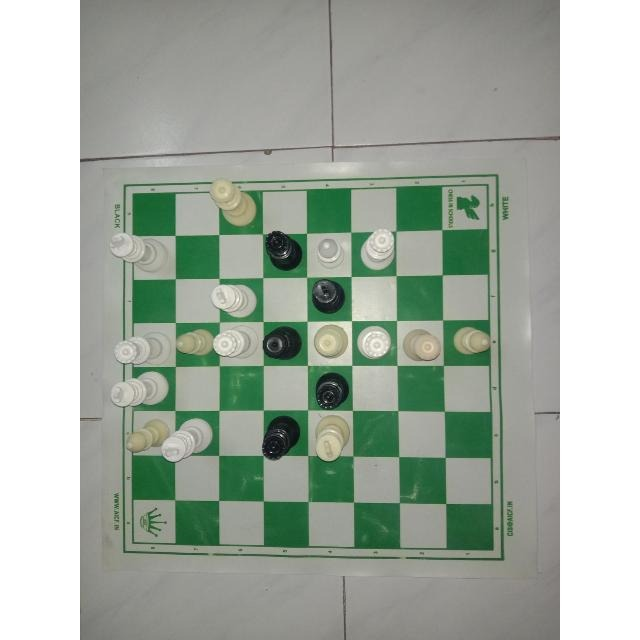black-king: (307, 276, 349, 319)
black-queen: (258, 411, 302, 461), (262, 230, 306, 274), (260, 324, 304, 362), (312, 370, 350, 412)
white-bishop: (123, 416, 169, 456), (454, 323, 496, 357), (314, 231, 350, 270), (174, 325, 214, 358)
white-king: (106, 367, 176, 412), (161, 412, 213, 468), (107, 232, 174, 274), (308, 412, 354, 467), (210, 279, 260, 319)
white-queen: (206, 173, 260, 227), (112, 325, 172, 367), (214, 323, 262, 363), (359, 226, 398, 272), (403, 323, 443, 365), (357, 322, 393, 363), (314, 323, 350, 363)
